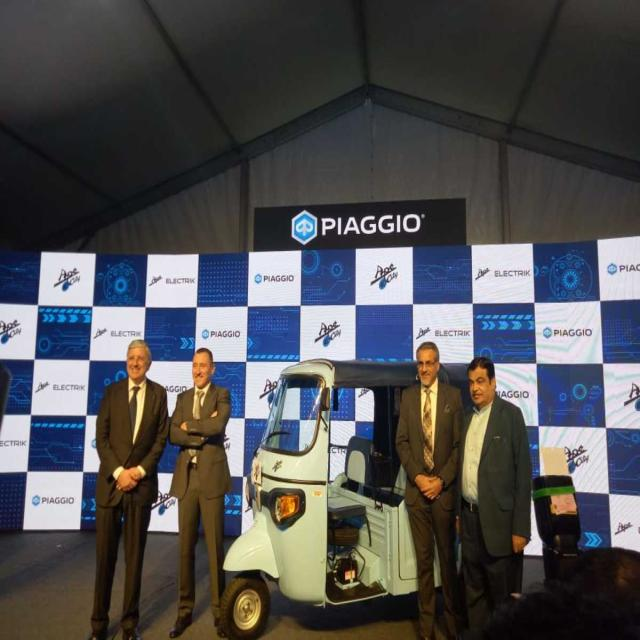autorickshaw: (221, 360, 418, 638)
